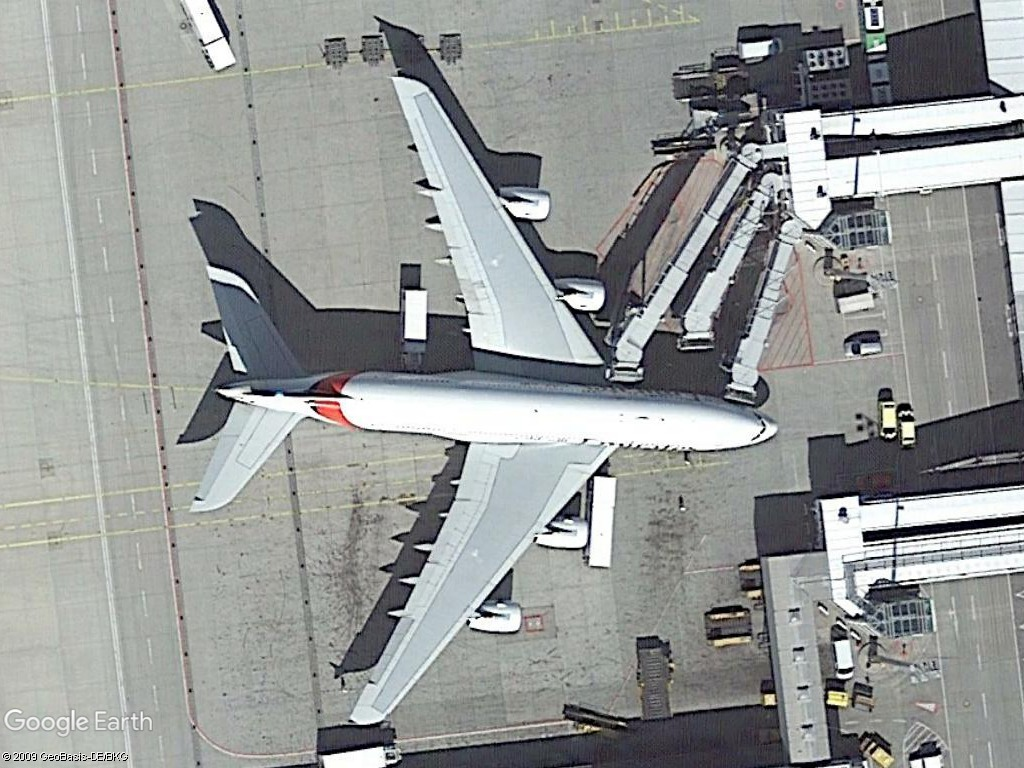airliner: (183, 68, 783, 734)
car: (841, 336, 885, 360)
truck: (397, 283, 431, 366)
van: (735, 34, 786, 62), (828, 637, 857, 682), (874, 397, 899, 442), (896, 406, 919, 449)
